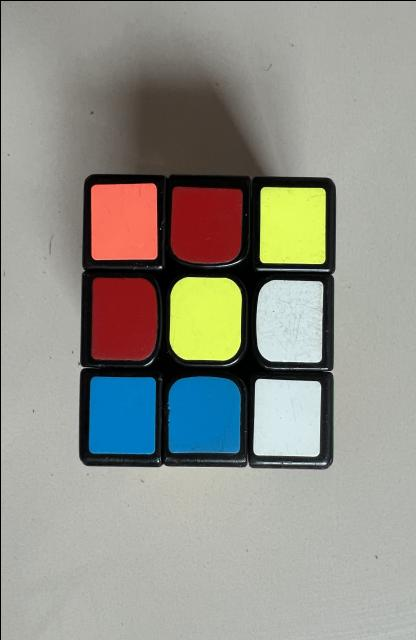Blue: (168, 376, 239, 452), (88, 376, 155, 454)
Orange: (90, 182, 157, 259)
Red: (90, 276, 157, 360), (170, 185, 242, 262)
White: (256, 279, 323, 361), (252, 378, 321, 456)
Yellow: (169, 276, 240, 360), (259, 186, 325, 264)
